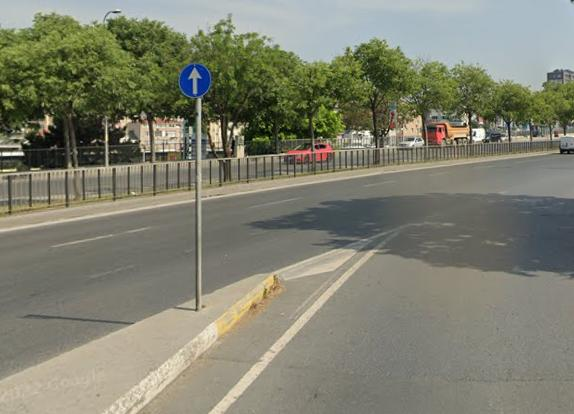forward: (180, 65, 212, 97)
